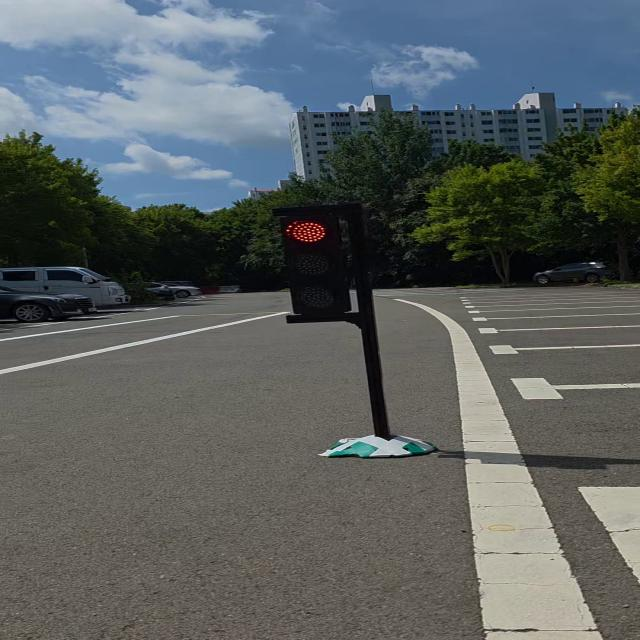red: (282, 208, 351, 322)
